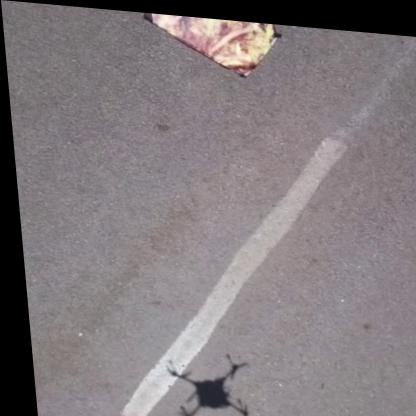fire-poster: (140, 10, 286, 78)
